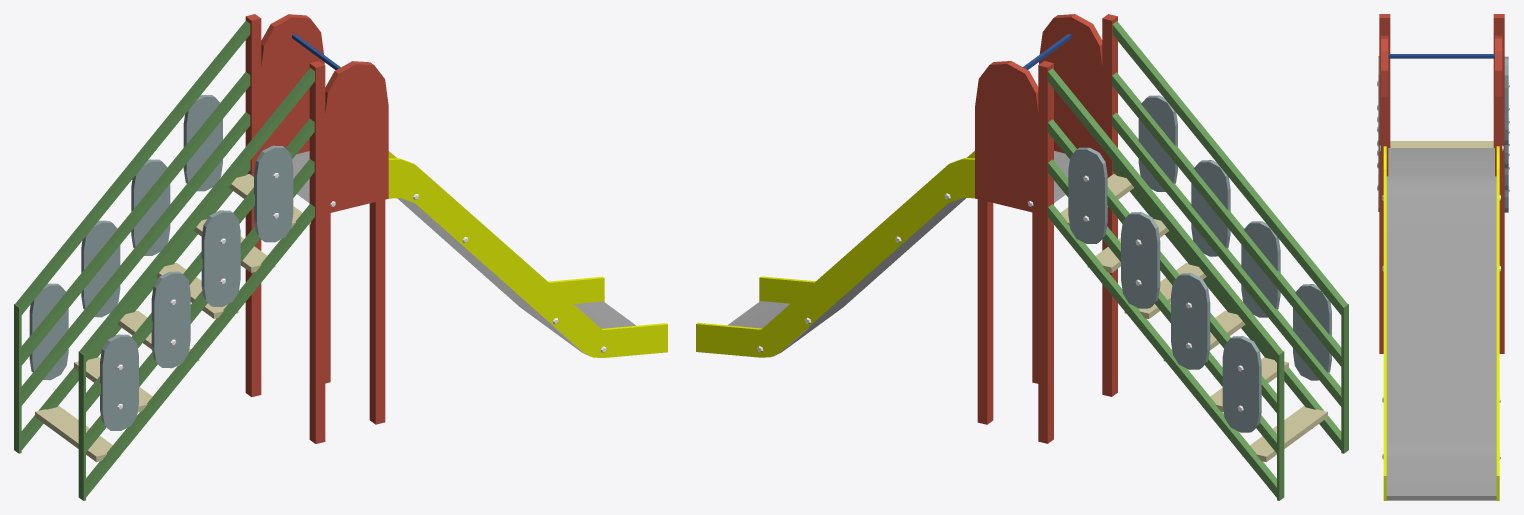
The model's file is Slide.gltf.
The picture shows the model from 3 angles, left to right: view 1: azimuth 30°, elevation 25°; view 2: azimuth 150°, elevation 25°; view 3: azimuth 270°, elevation 25°; orthographic projection. The views are drawn at different scales.
Visible parts, largest first — view 1: SM_Playground_05; view 2: SM_Playground_05; view 3: SM_Playground_05.
Boxes of the visible parts, box(x1,y1,x2,y2) form: SM_Playground_05: box(14, 14, 667, 500); SM_Playground_05: box(696, 14, 1348, 500); SM_Playground_05: box(1377, 14, 1509, 500).
Size of the model in its own units: 3.04 by 1.87 by 0.6694.
1 material, 1 textured.
